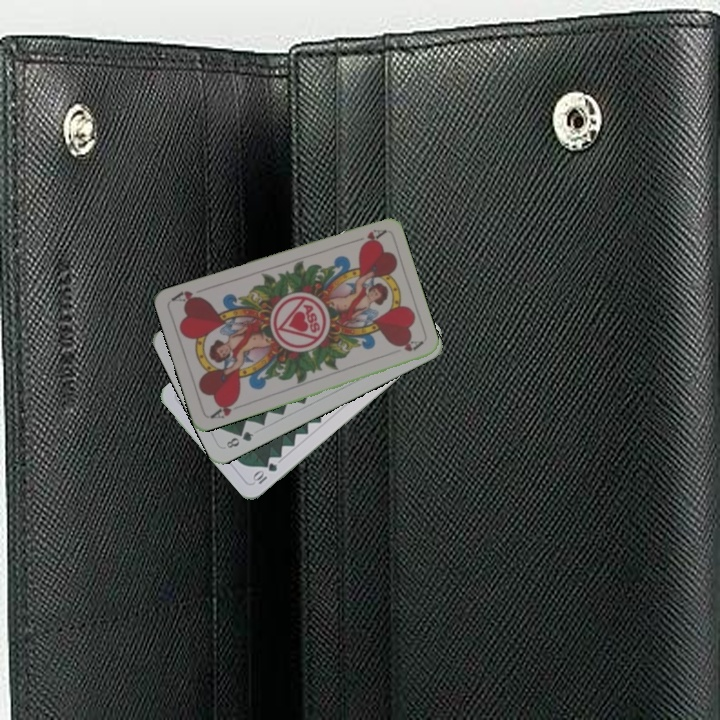G10: (249, 459, 280, 487)
G8: (222, 427, 256, 451)
HA: (206, 395, 241, 421), (356, 225, 387, 250)
